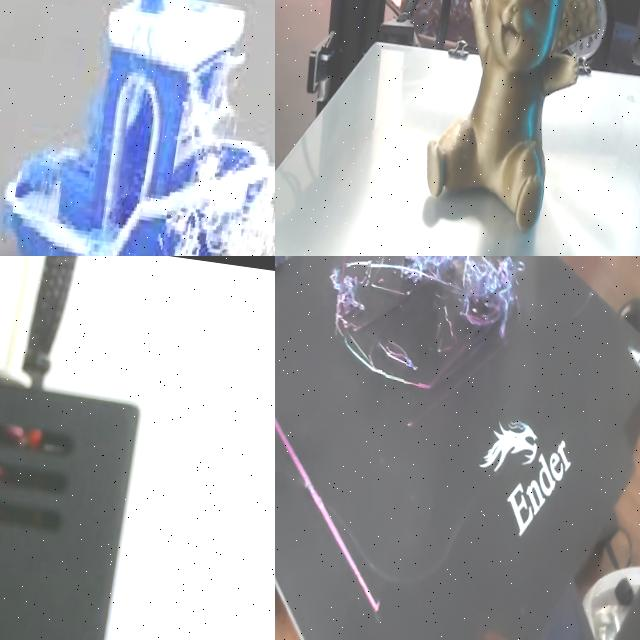spaghetti: (163, 50, 275, 256), (394, 256, 540, 353), (12, 112, 64, 219), (316, 256, 374, 341), (71, 74, 114, 174), (374, 326, 426, 386)
